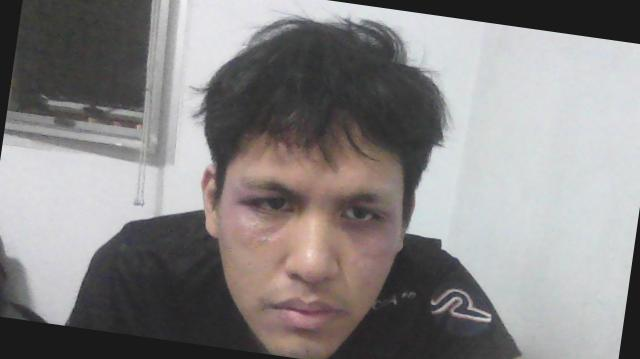fokus: (174, 75, 429, 359)
